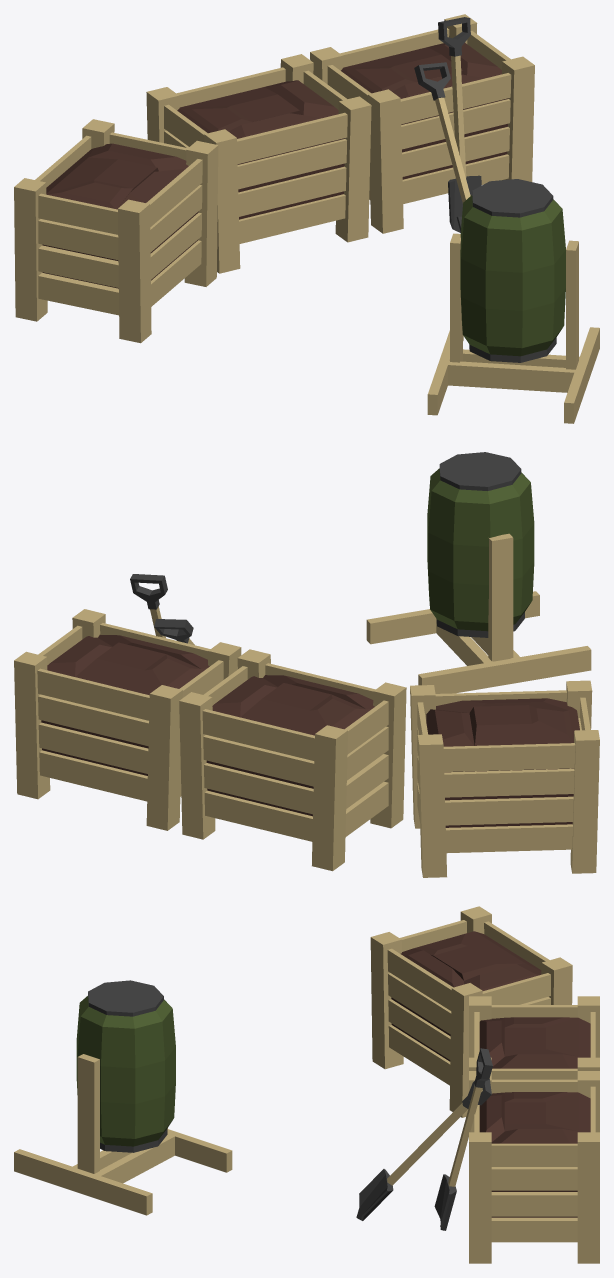
The model's file is Compost.fbx.
The picture shows the model from 3 angles, top to bottom: view 1: azimuth 30°, elevation 25°; view 2: azimuth 150°, elevation 25°; view 3: azimuth 270°, elevation 25°; orthographic projection. The views are drawn at different scales.
Parts seen in each view (by area): view 1: Compost; view 2: Compost; view 3: Compost.
Boxes of the visible parts, box(x1,y1,x2,y2) form: Compost: box(14, 14, 599, 423); Compost: box(14, 452, 599, 877); Compost: box(14, 906, 599, 1263).
Bounding box in the file's own units: 4.68 × 1.69 × 4.92.
